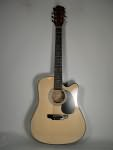guitar: (26, 3, 89, 147)
